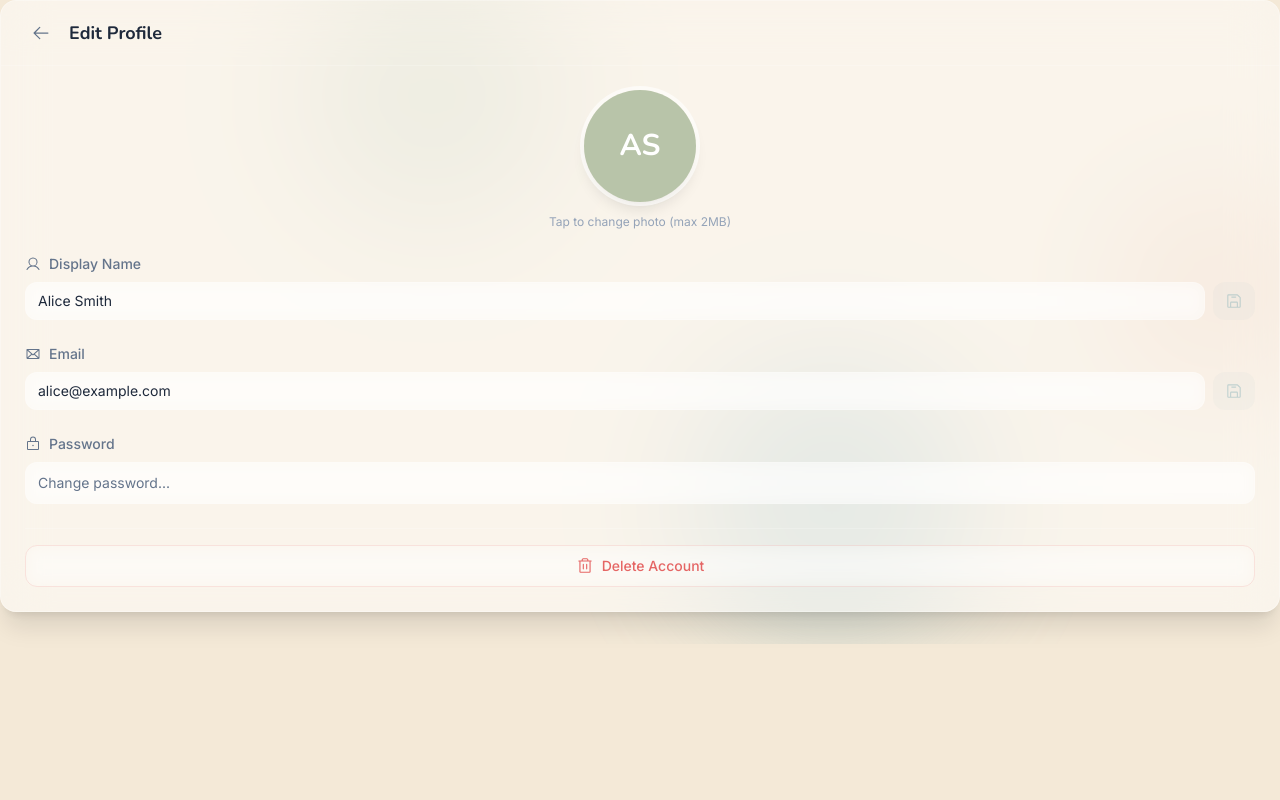
Scenario: ProfileEditForm › shows email update success message
Replace the text in the field showing "alice@example.com" below "Email" with "new@example.com" at x=615, y=391, box [25,372,1205,410]
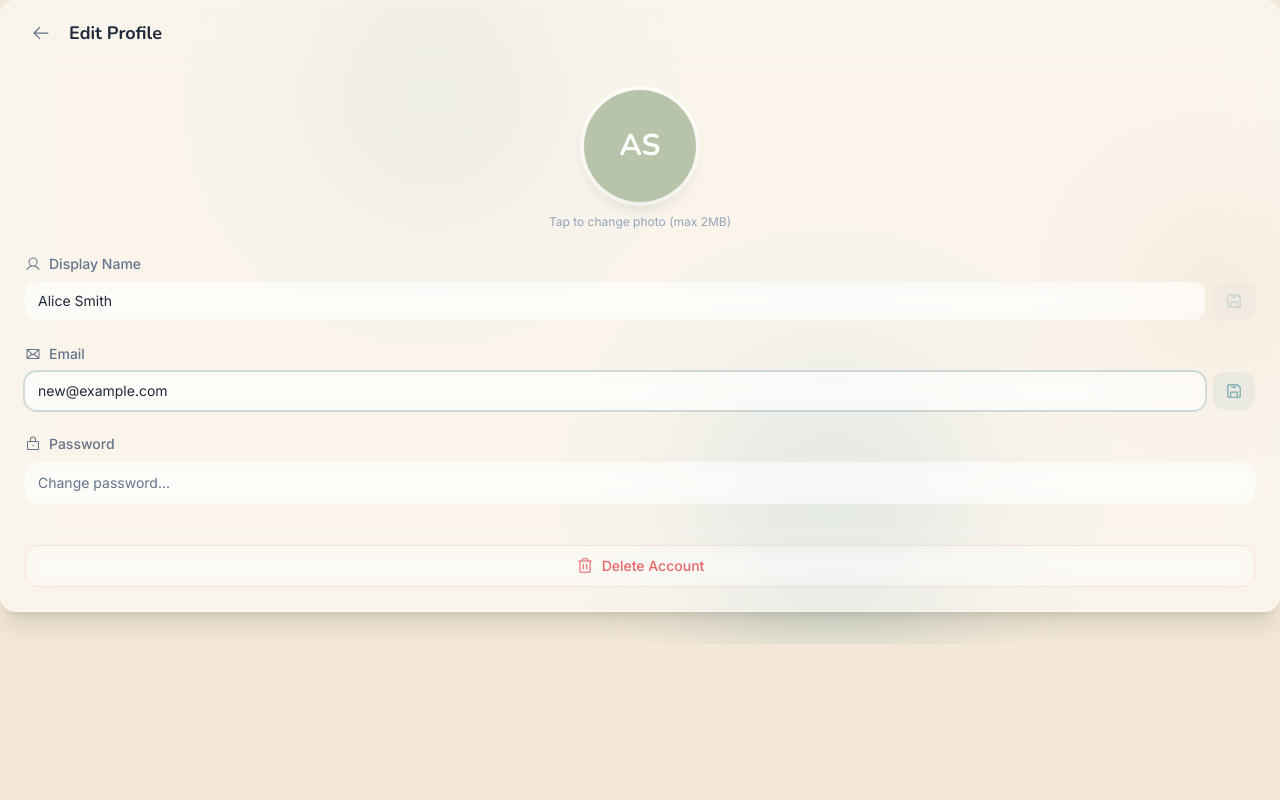
Click the 4th button at x=1234, y=391, box [1213,372,1255,410]
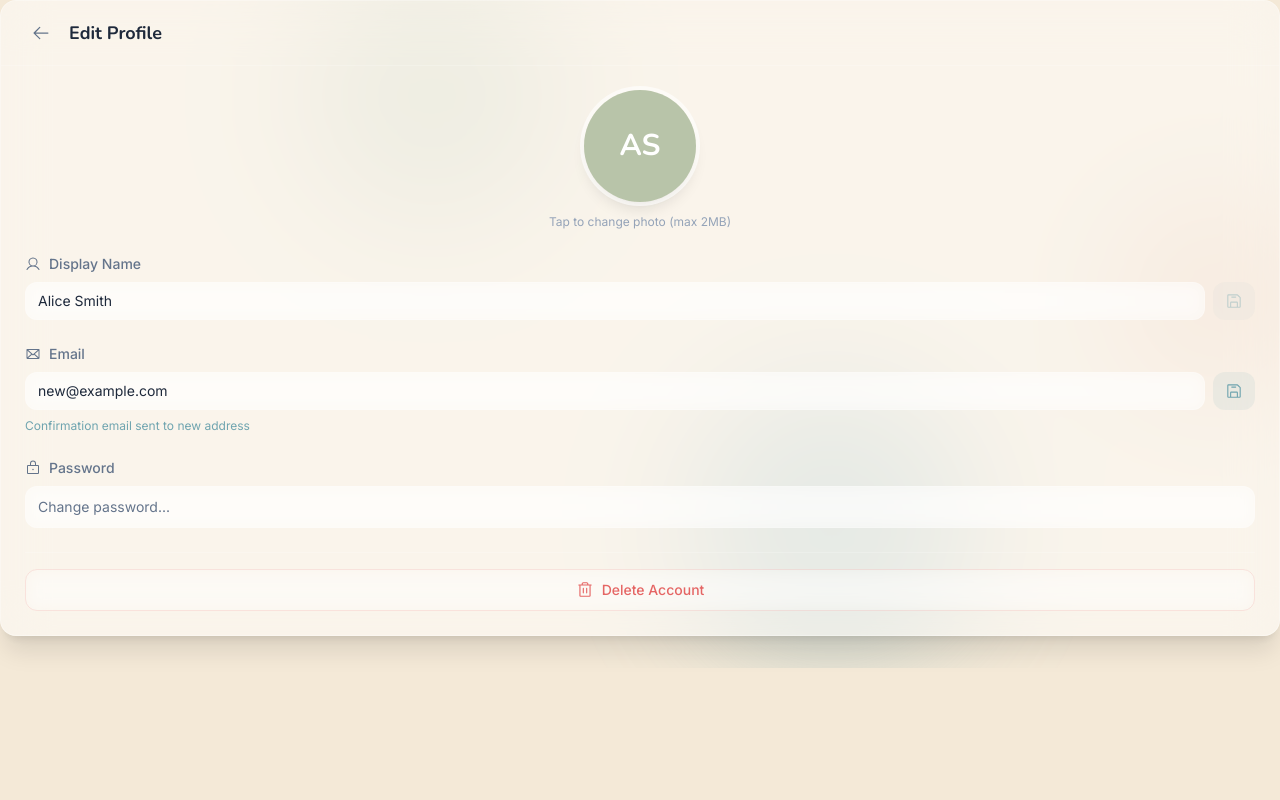
Check: the text "Confirmation email sent to new address" is shown, box [25,418,250,433]
